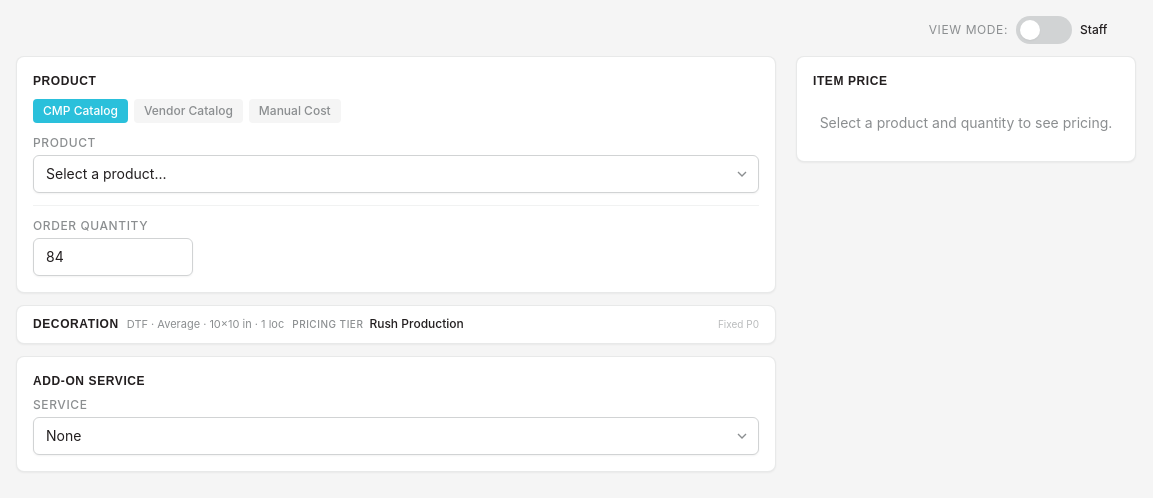
Test: Pricing Tier selector › refreshes the authoritative capability when local evaluation switches to Manager
This screenshot has width=1153, height=498.
Click the switch named "Toggle Manager mode": (1044, 30) [1016,16,1072,44]
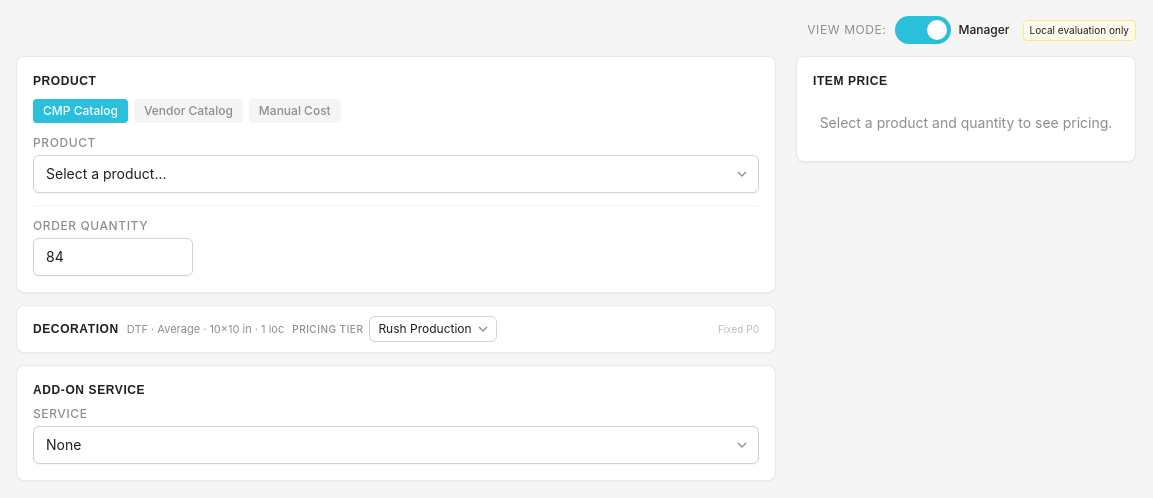
Check: the dropdown labelled "Pricing Tier" is shown, box [369,316,497,342]
